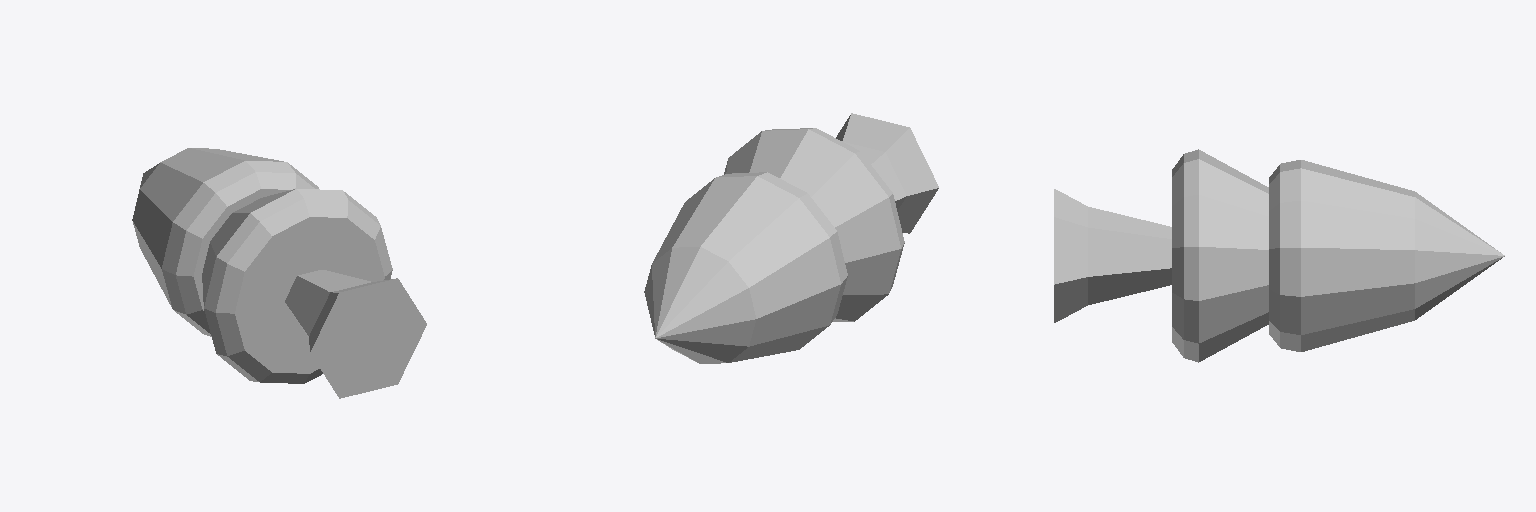
The model's file is tree-pine-snow.001.obj.
The picture shows the model from 3 angles: view 1: azimuth 30°, elevation 25°; view 2: azimuth 150°, elevation 25°; view 3: azimuth 270°, elevation 25°; orthographic projection.
Parts seen in each view (by area): view 1: tree-pine-snow.001; view 2: tree-pine-snow.001; view 3: tree-pine-snow.001.
Boxes of the visible parts, x1,y1,x2,y2 form: tree-pine-snow.001: [132, 148, 426, 398]; tree-pine-snow.001: [644, 113, 938, 363]; tree-pine-snow.001: [1054, 149, 1504, 362].
Size of the model in its own units: 0.9485 by 0.9485 by 2.